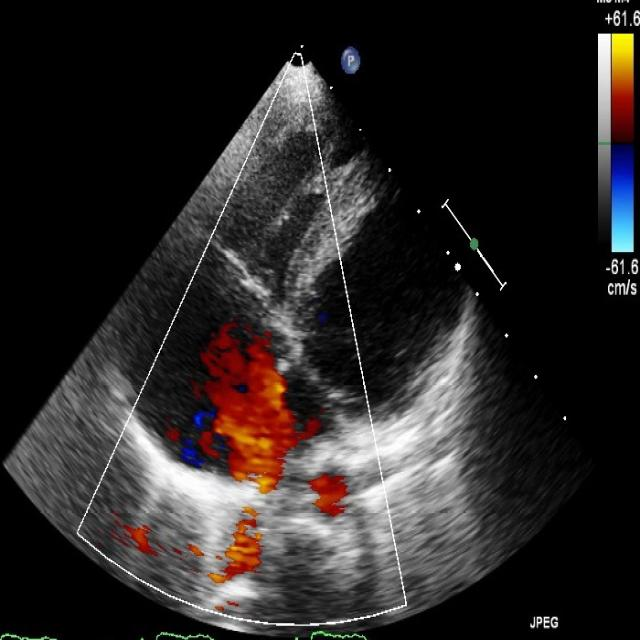ASDType2: (201, 324, 321, 498)
